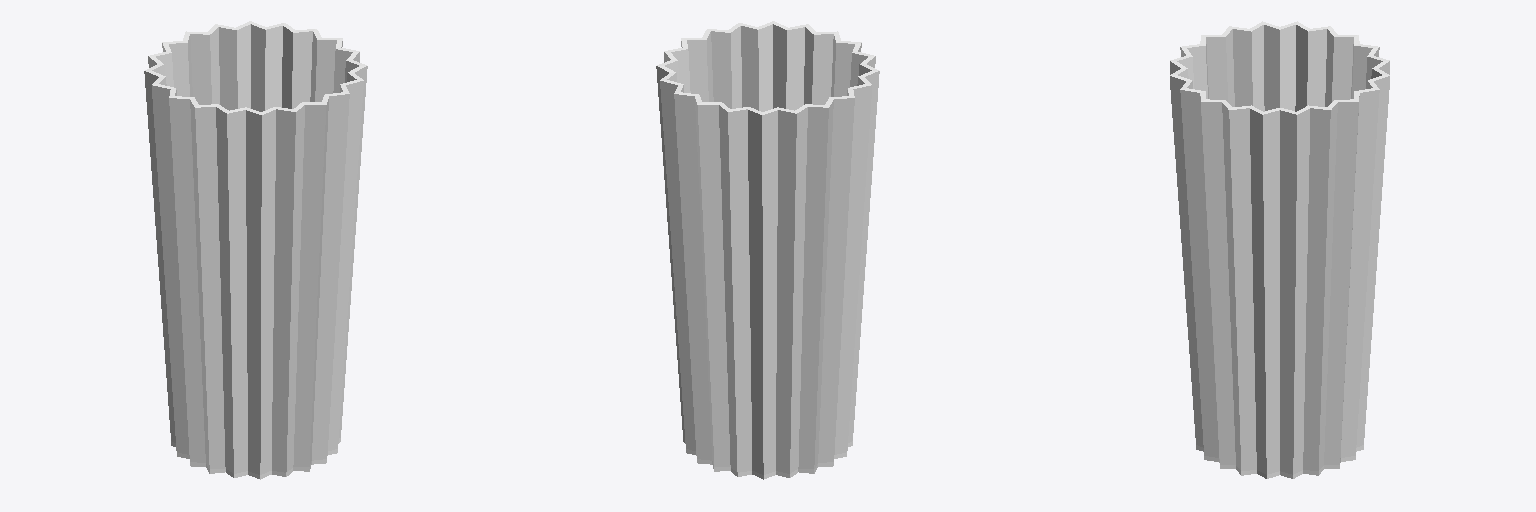
The model's file is Skyscraper_Base_5.obj.
The picture shows the model from 3 angles: view 1: azimuth 30°, elevation 25°; view 2: azimuth 150°, elevation 25°; view 3: azimuth 270°, elevation 25°; orthographic projection.
Visible parts, largest first — view 1: polySurface49_polySurface49; view 2: polySurface49_polySurface49; view 3: polySurface49_polySurface49.
Part boxes in pixels (x1,y1,x2,y2): polySurface49_polySurface49: (144, 21, 367, 479); polySurface49_polySurface49: (656, 21, 879, 479); polySurface49_polySurface49: (1170, 21, 1389, 478).
Bounding box in the file's own units: 1.61 × 3.01 × 1.61.